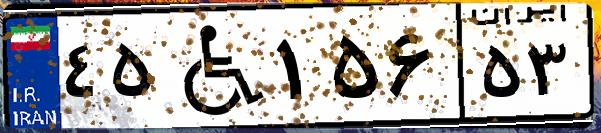1: (270, 28, 330, 110)
3: (525, 38, 570, 115)
4: (57, 26, 110, 100)
5: (330, 28, 385, 110), (475, 38, 525, 113), (110, 28, 158, 98)
6: (385, 28, 445, 110)
ژ (معلولین و جانبازان): (158, 12, 270, 120)
